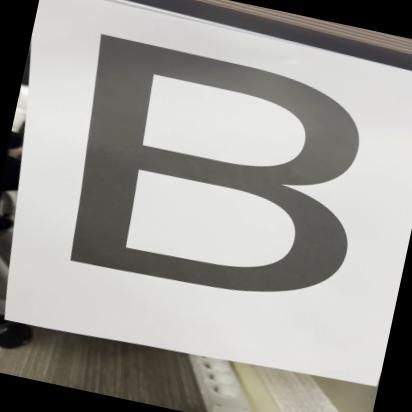seat: (40, 18, 400, 333)
